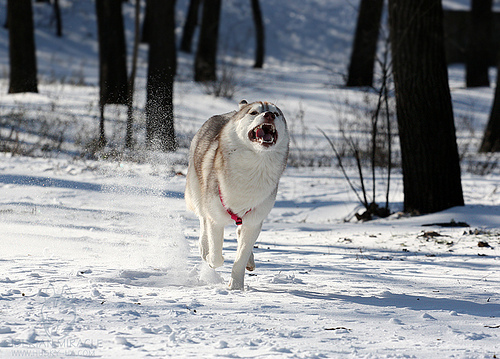dog: (181, 97, 292, 291)
